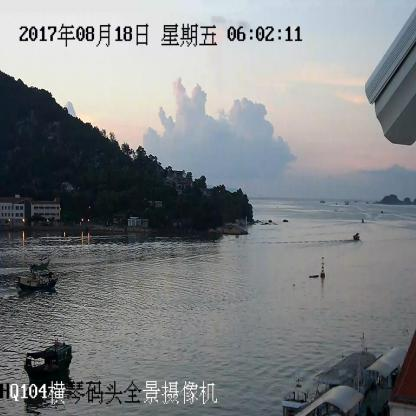Fishing Boat: (24, 345, 74, 376), (17, 265, 57, 291)
